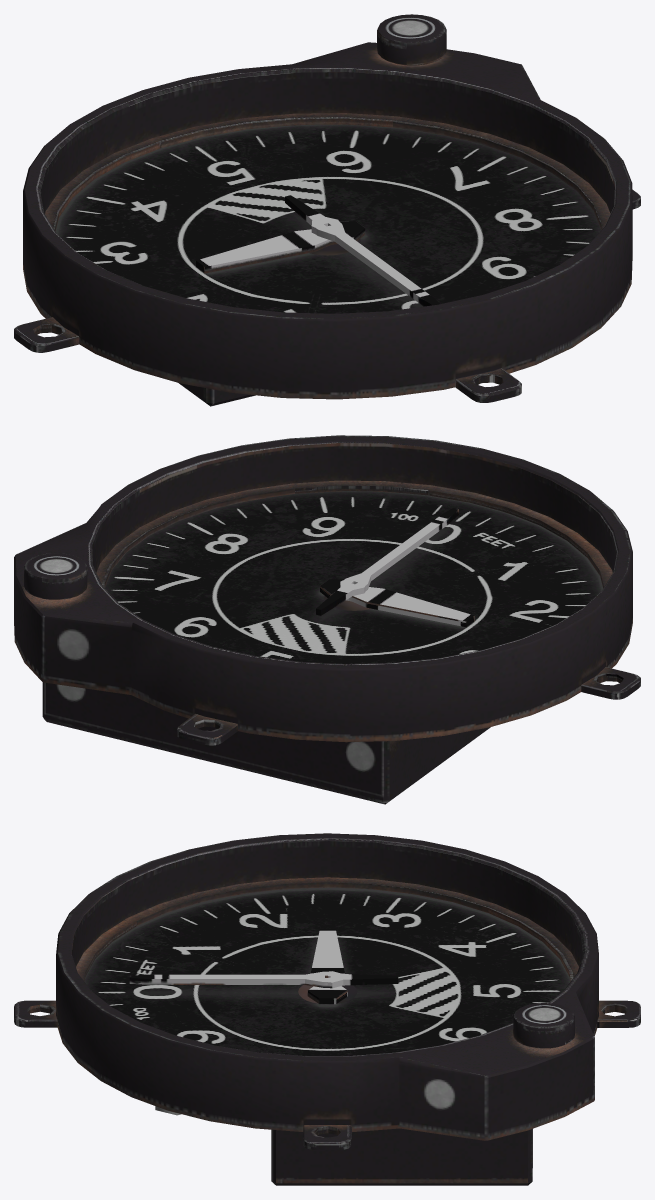
The model's file is altimeter.gltf.
3 views of the same model, one above another, from view 1: azimuth 30°, elevation 25°; view 2: azimuth 150°, elevation 25°; view 3: azimuth 270°, elevation 25° (orthographic). The views are drawn at different scales.
Visible parts, largest first — view 1: altimeter-body; view 2: altimeter-body; view 3: altimeter-body.
Part boxes in pixels (x1,y1,x2,y2): altimeter-body: [14, 14, 640, 406]; altimeter-body: [14, 435, 640, 804]; altimeter-body: [14, 833, 640, 1185].
Bounding box in the file's own units: 2.42 × 0.6929 × 2.42.
1 material, 1 textured.
